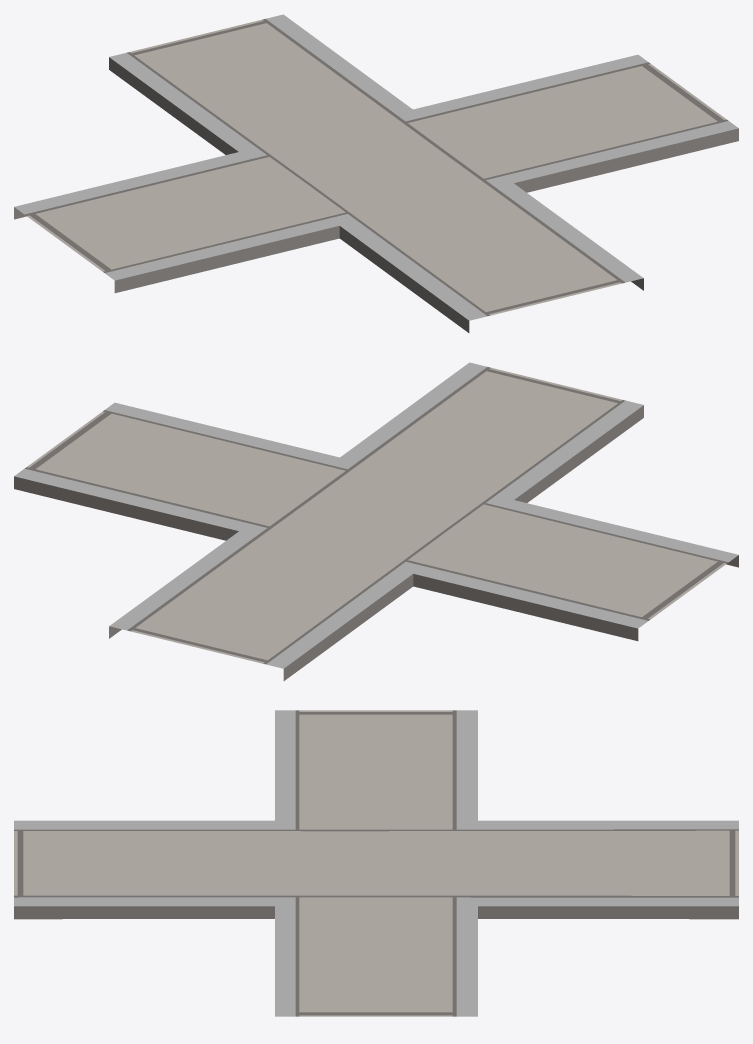
File: SA_Env_Path_Cross_mesh.fbx
3 views of the same model, one above another, from view 1: azimuth 30°, elevation 25°; view 2: azimuth 150°, elevation 25°; view 3: azimuth 270°, elevation 25° (orthographic).
Parts seen in each view (by area): view 1: SA_Env_Path_Cross_mesh; view 2: SA_Env_Path_Cross_mesh; view 3: SA_Env_Path_Cross_mesh.
Boxes of the visible parts, x1=… form: SA_Env_Path_Cross_mesh: x1=14, y1=14, x2=738, y2=332; SA_Env_Path_Cross_mesh: x1=14, y1=362, x2=738, y2=680; SA_Env_Path_Cross_mesh: x1=14, y1=710, x2=738, y2=1016.
Size of the model in its own units: 10 by 0.1948 by 10.
1 material, 1 textured.
